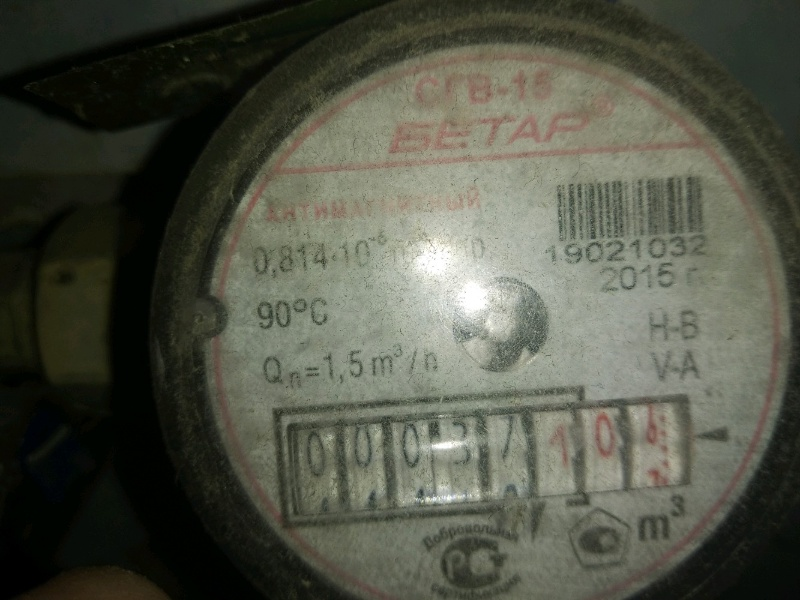meter: (270, 412, 697, 491)
